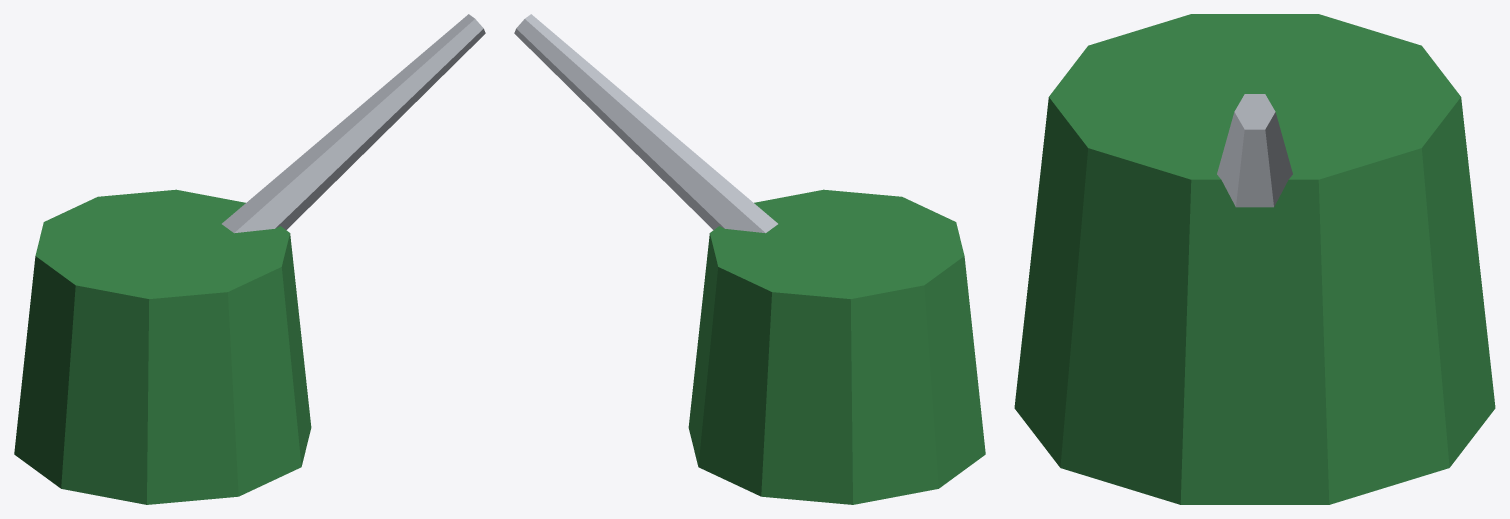
The model's file is garage_oil_can.glb.
The picture shows the model from 3 angles, left to right: view 1: azimuth 30°, elevation 25°; view 2: azimuth 150°, elevation 25°; view 3: azimuth 270°, elevation 25°; orthographic projection. The views are drawn at different scales.
Parts seen in each view (by area): view 1: body_oilcan_green, spout_tool_chrome; view 2: body_oilcan_green, spout_tool_chrome; view 3: body_oilcan_green, spout_tool_chrome.
Part boxes in pixels (x1,y1,x2,y2): body_oilcan_green: [14, 189, 311, 504]; spout_tool_chrome: [222, 14, 485, 233]; body_oilcan_green: [688, 189, 985, 504]; spout_tool_chrome: [514, 14, 777, 233]; body_oilcan_green: [1014, 14, 1495, 504]; spout_tool_chrome: [1217, 94, 1292, 207].
Size of the model in its own units: 0.2367 by 0.1776 by 0.14.
